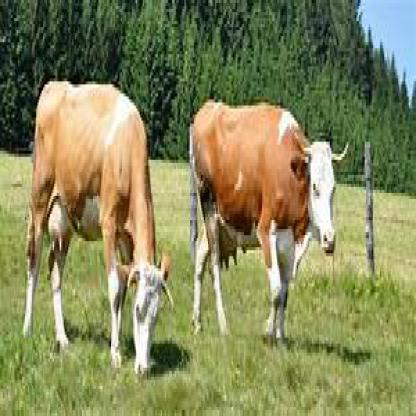cow: (22, 81, 175, 374), (190, 97, 349, 346)
